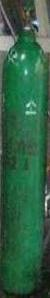cylinder: (1, 1, 50, 298)
